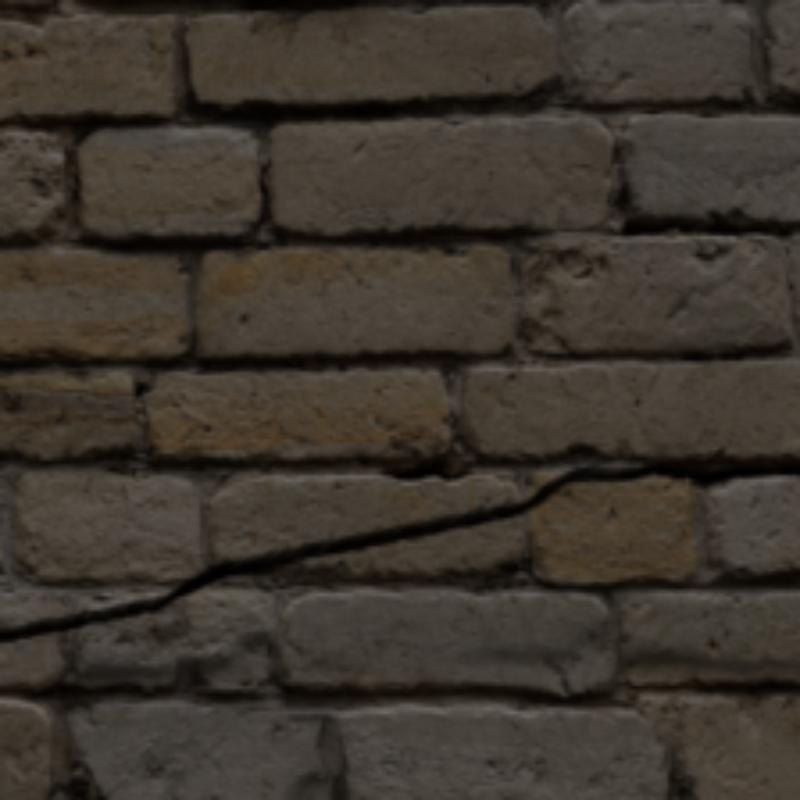crack: (0, 464, 796, 639)
